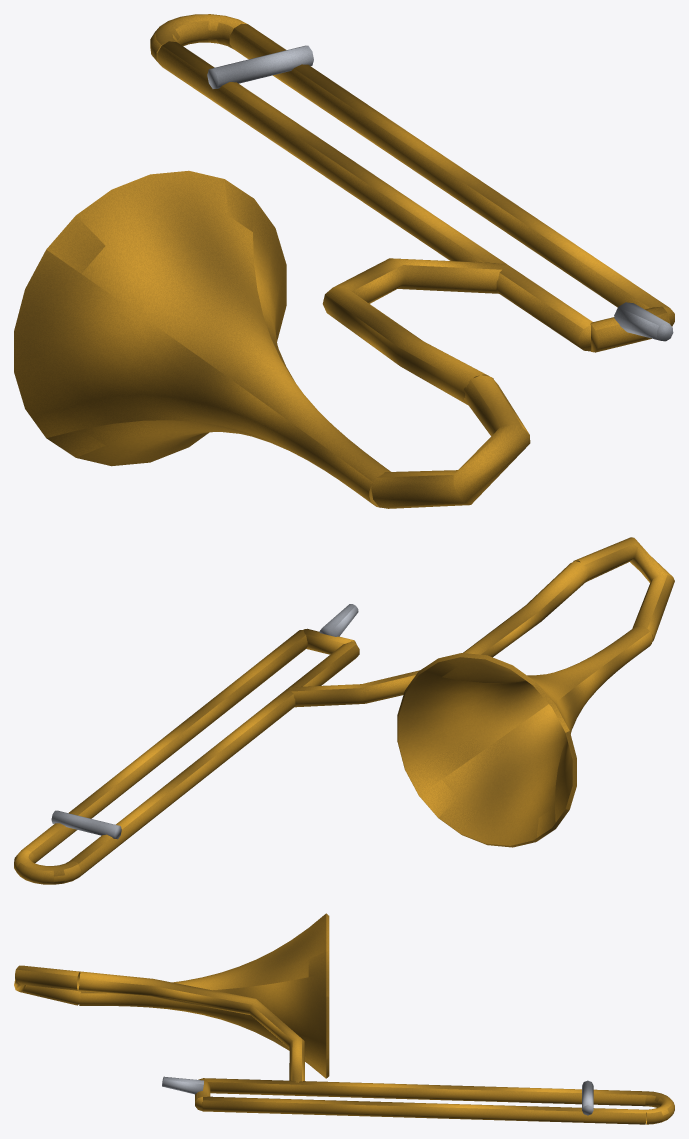
The model's file is banda_trombon.obj.
The picture shows the model from 3 angles, top to bottom: view 1: azimuth 30°, elevation 25°; view 2: azimuth 150°, elevation 25°; view 3: azimuth 270°, elevation 25°; orthographic projection. The views are drawn at different scales.
Visible parts, largest first — view 1: banda_trombon; view 2: banda_trombon; view 3: banda_trombon.
Part boxes in pixels (x1,y1,x2,y2): banda_trombon: [14, 14, 674, 508]; banda_trombon: [14, 537, 674, 884]; banda_trombon: [14, 913, 674, 1124].
Bounding box in the file's own units: 0.4538 × 0.23 × 0.9098.
Materials: 2 (2 with a texture image).
